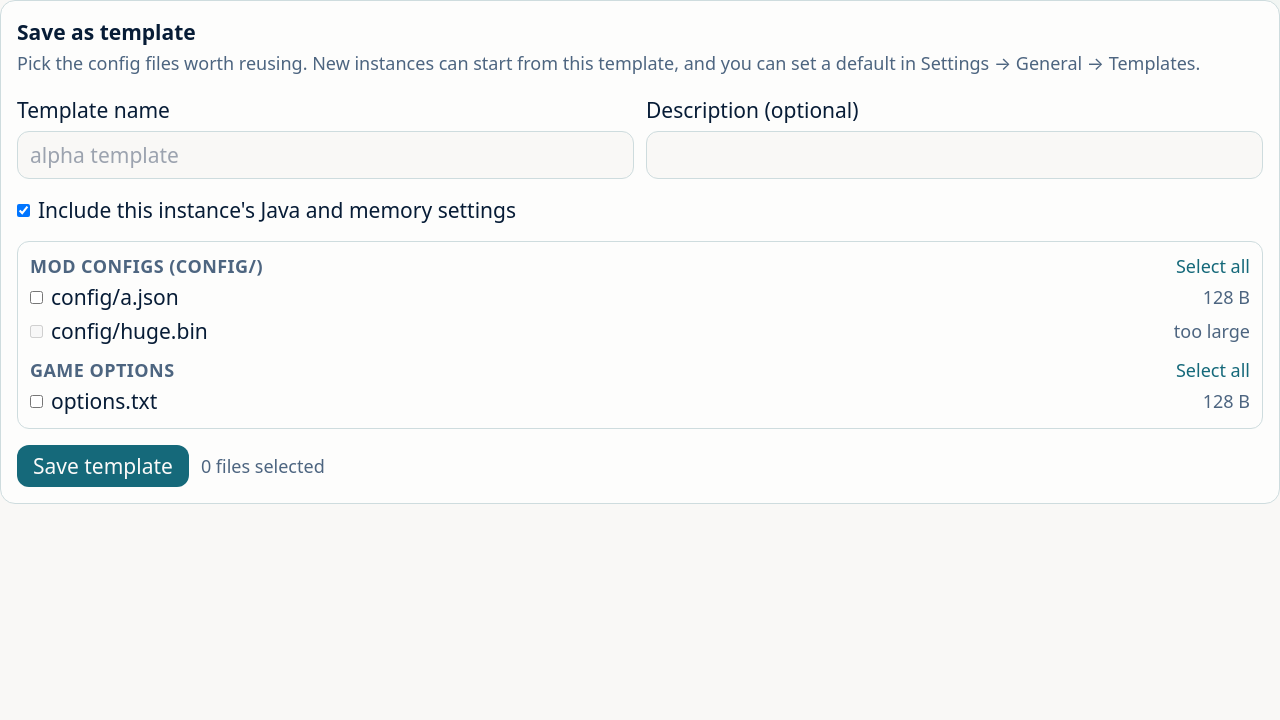
Test case: InstanceTemplatePanel › surfaces a capture failure instead of silently doing nothing
The width and height of the screenshot is (1280, 720).
Expected: the text "options.txt" is shown, [51, 386, 157, 416]
Click the button "Save template": [103, 466] box [17, 445, 189, 487]
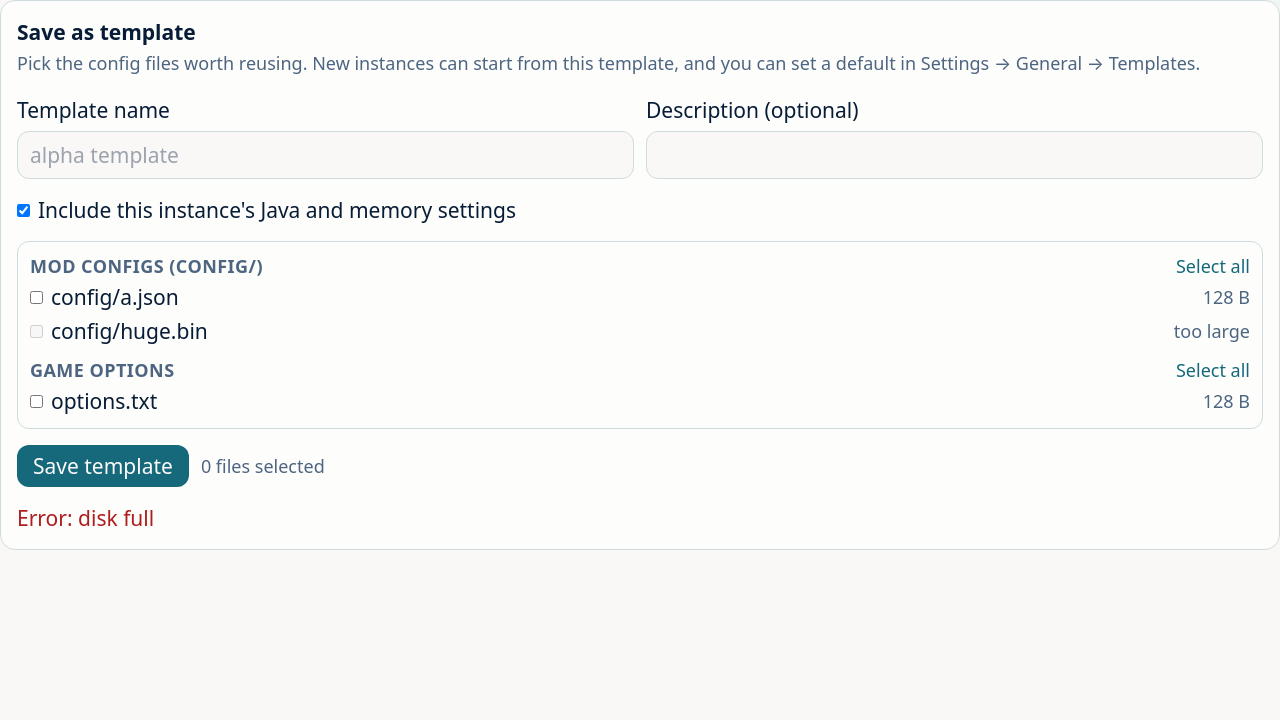
Result: the text "Error: disk full" is shown at [17, 504, 154, 532]
